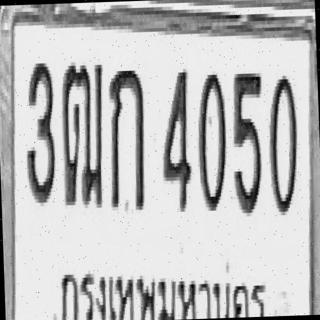A01: (105, 64, 148, 210)
A18: (58, 58, 108, 209)
N00: (195, 67, 228, 211), (266, 72, 299, 215)
N03: (22, 58, 57, 205)
N04: (158, 65, 192, 212)
N05: (230, 68, 266, 215)
P04: (58, 250, 270, 320)
